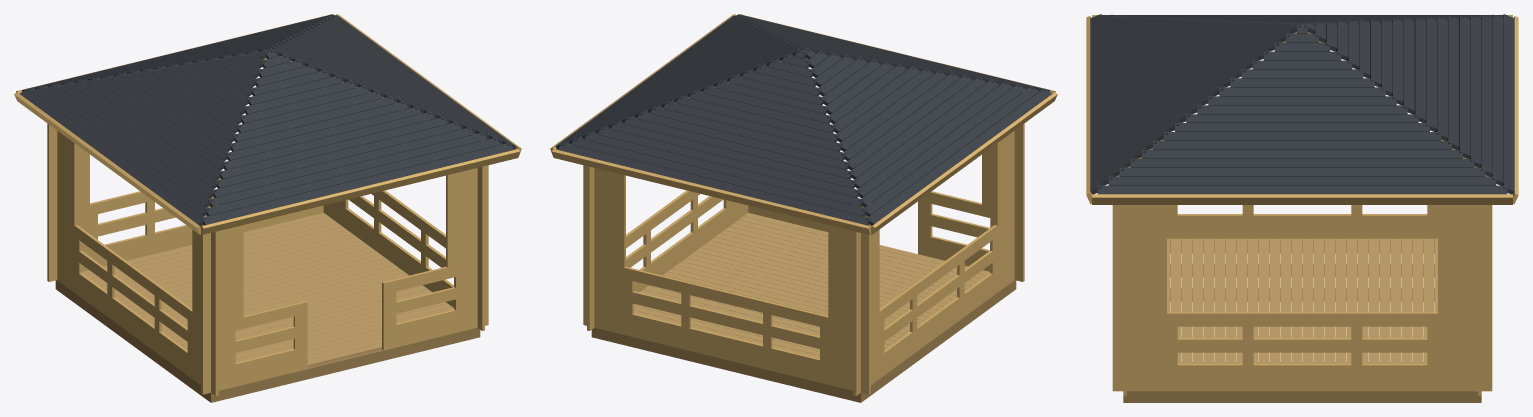
File: чарли_3_5_3_5_34_мм_шатровая_беседка.glb
3 renders of one model, left to right at view 1: azimuth 30°, elevation 25°; view 2: azimuth 150°, elevation 25°; view 3: azimuth 270°, elevation 25°, orthographic. The views are drawn at different scales.
Visible parts, largest first — view 1: roof, walls, floor, Чарли 3,5×3,5 (34 мм, шатровая беседка); view 2: roof, walls, floor, Чарли 3,5×3,5 (34 мм, шатровая беседка); view 3: roof, walls, floor, Чарли 3,5×3,5 (34 мм, шатровая беседка).
Boxes of the visible parts, bbox=[...] form: roof: bbox=[14, 14, 521, 234]; walls: bbox=[47, 56, 488, 395]; floor: bbox=[82, 213, 454, 367]; Чарли 3,5×3,5 (34 мм, шатровая беседка): bbox=[55, 280, 480, 402]; roof: bbox=[550, 14, 1057, 234]; walls: bbox=[583, 56, 1024, 395]; floor: bbox=[634, 213, 989, 358]; Чарли 3,5×3,5 (34 мм, шатровая беседка): bbox=[591, 280, 1016, 402]; roof: bbox=[1086, 14, 1518, 204]; walls: bbox=[1112, 32, 1492, 395]; floor: bbox=[1167, 238, 1437, 363]; Чарли 3,5×3,5 (34 мм, шатровая беседка): bbox=[1123, 241, 1481, 402].
Bounding box in the file's own units: 3.98 × 3.09 × 3.98.
